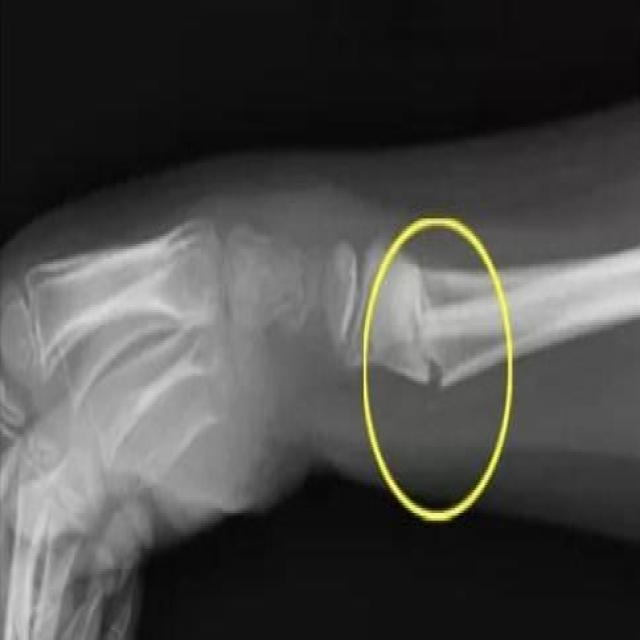bone: (404, 252, 514, 422)
